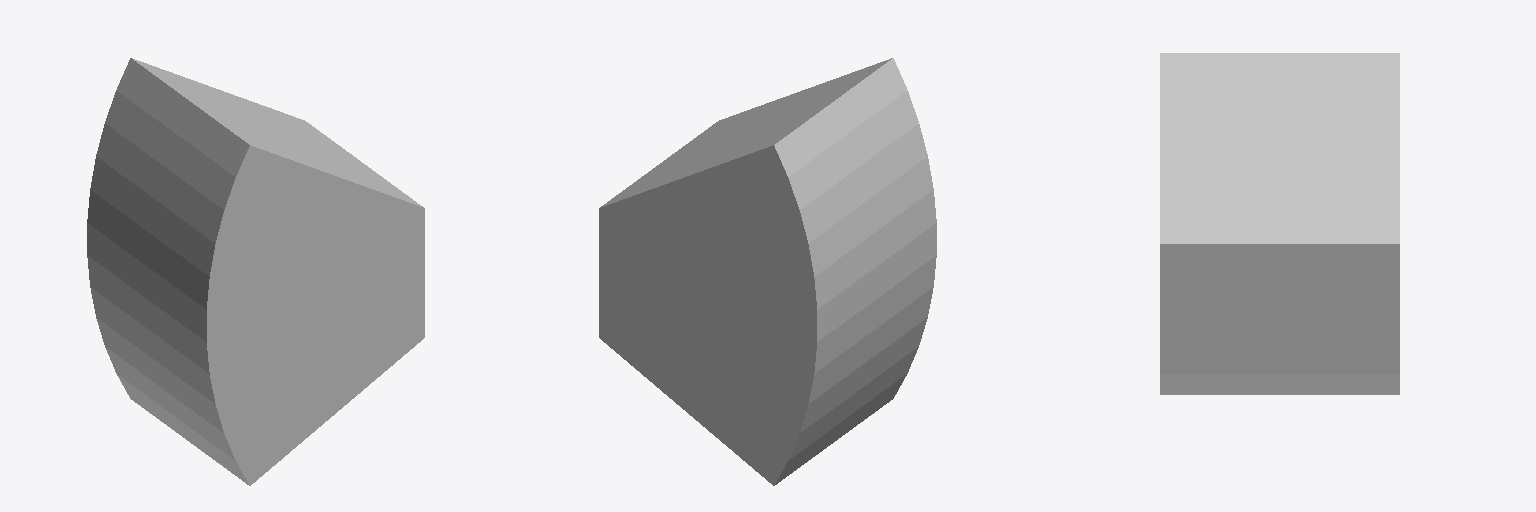
Rendered from round_hexagon_hole_0.obj.
The picture shows the model from 3 angles: view 1: azimuth 30°, elevation 25°; view 2: azimuth 150°, elevation 25°; view 3: azimuth 270°, elevation 25°; orthographic projection.
Visible parts, largest first — view 1: Body121; view 2: Body121; view 3: Body121.
Part boxes in pixels (bbox=[...]): Body121: bbox=[87, 58, 424, 485]; Body121: bbox=[599, 58, 936, 485]; Body121: bbox=[1160, 53, 1399, 394].
Bounding box in the file's own units: 0.0421 × 0.063 × 0.04.